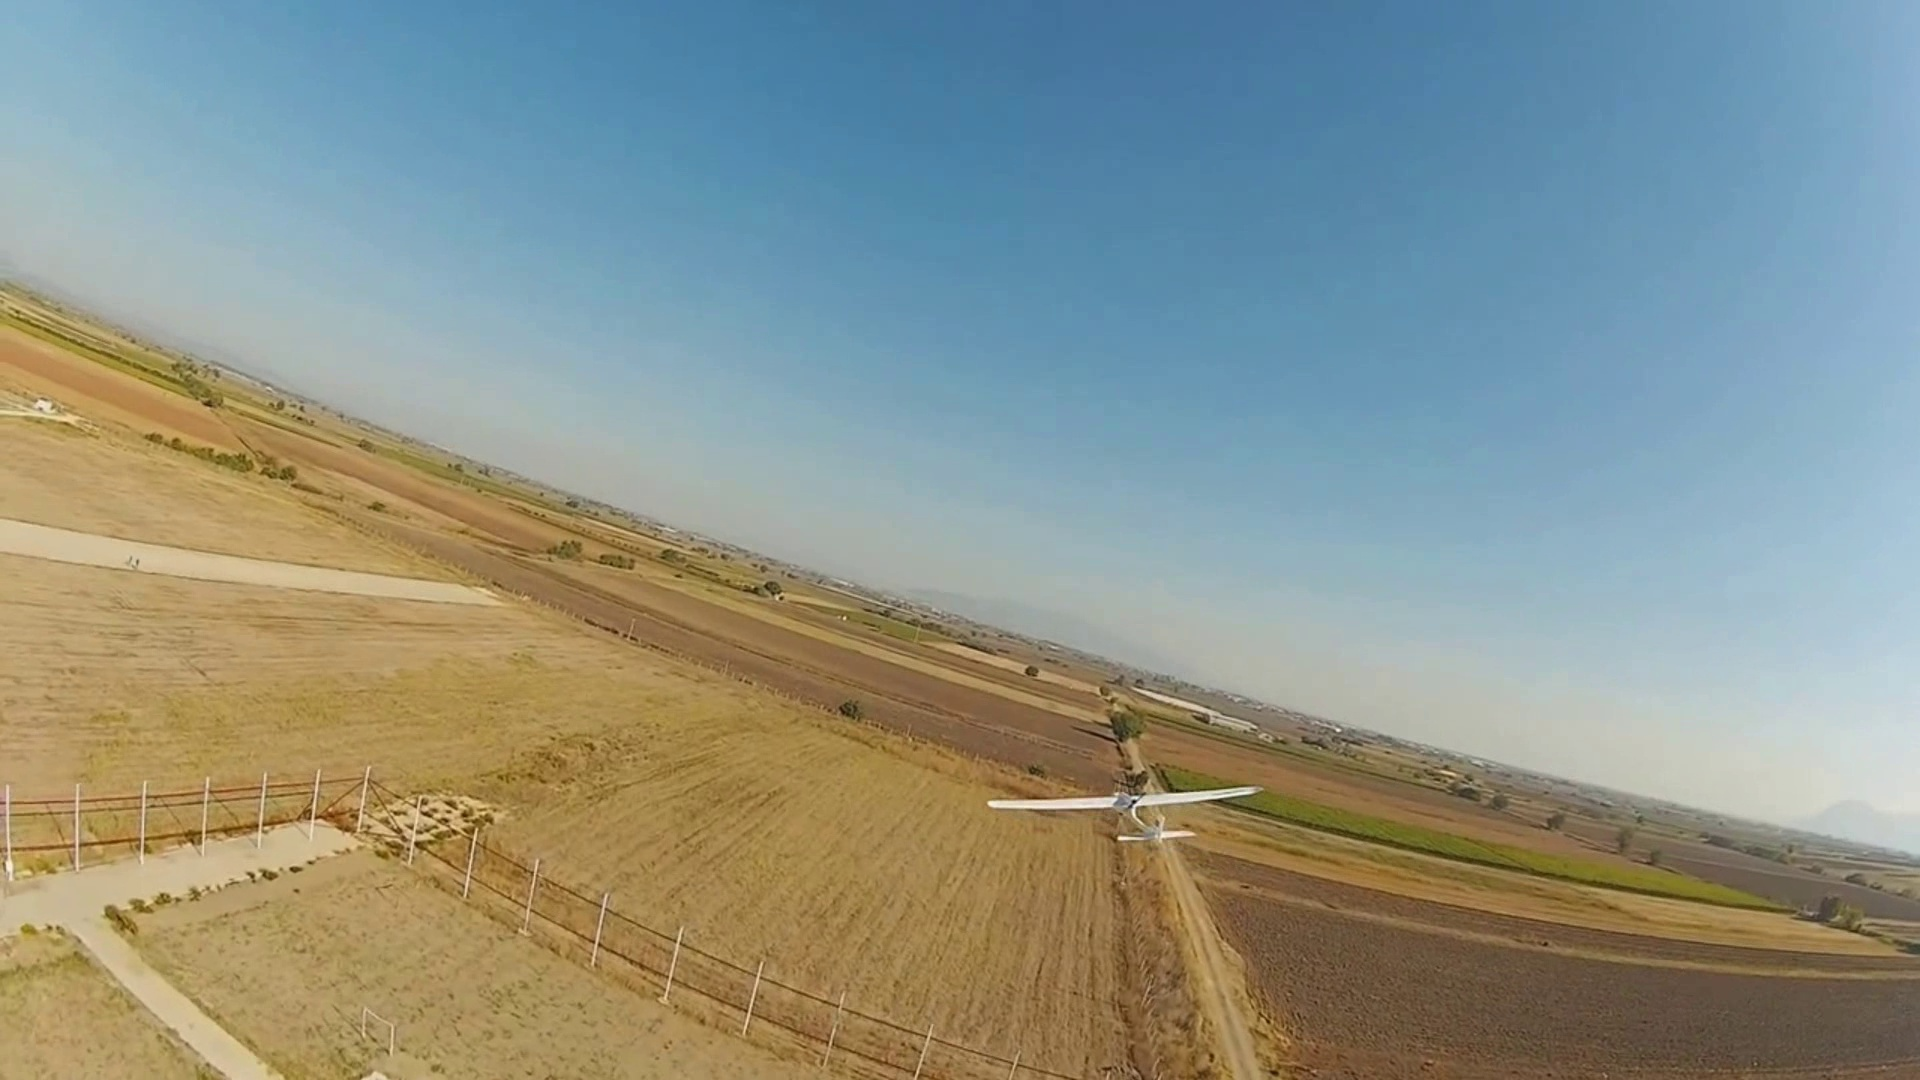airplane: (986, 764, 1263, 837)
